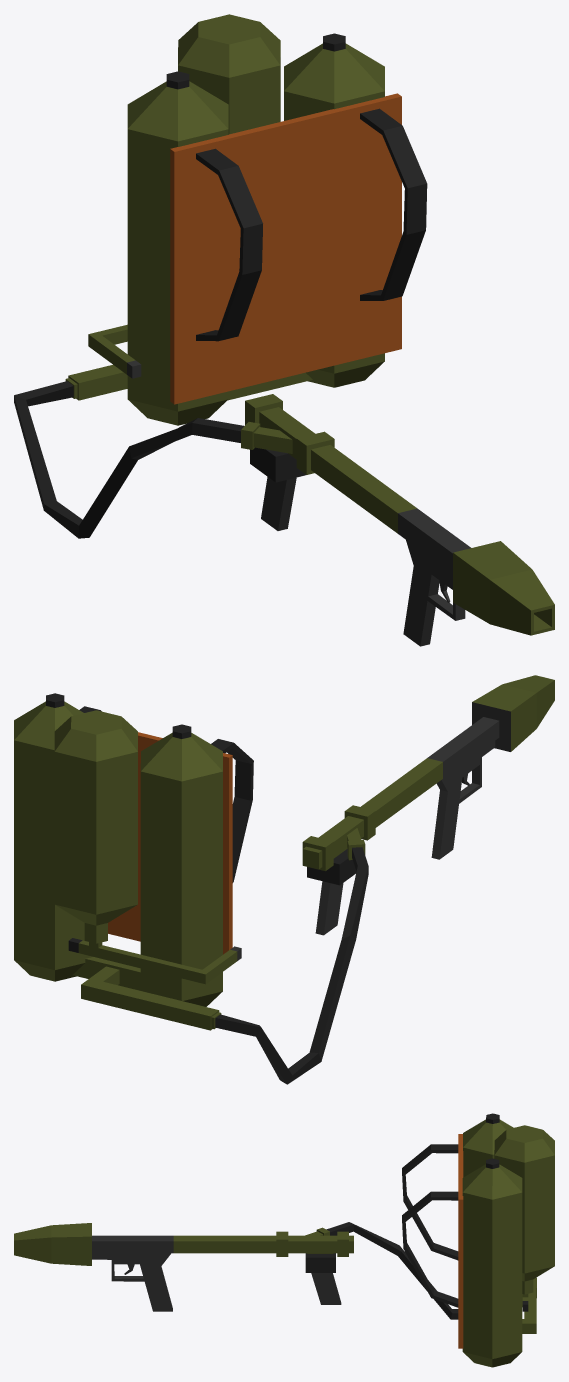
The model's file is M2_Flamethrower.fbx.
The picture shows the model from 3 angles, top to bottom: view 1: azimuth 30°, elevation 25°; view 2: azimuth 150°, elevation 25°; view 3: azimuth 270°, elevation 25°; orthographic projection. The views are drawn at different scales.
Visible parts, largest first — view 1: M2_Flamethrower; view 2: M2_Flamethrower; view 3: M2_Flamethrower.
Boxes of the visible parts, <box> form: M2_Flamethrower: <box>14,14,554,646</box>; M2_Flamethrower: <box>14,675,554,1084</box>; M2_Flamethrower: <box>14,1113,554,1367</box>.
Bounding box in the file's own units: 50.2 × 57.93 × 117.
